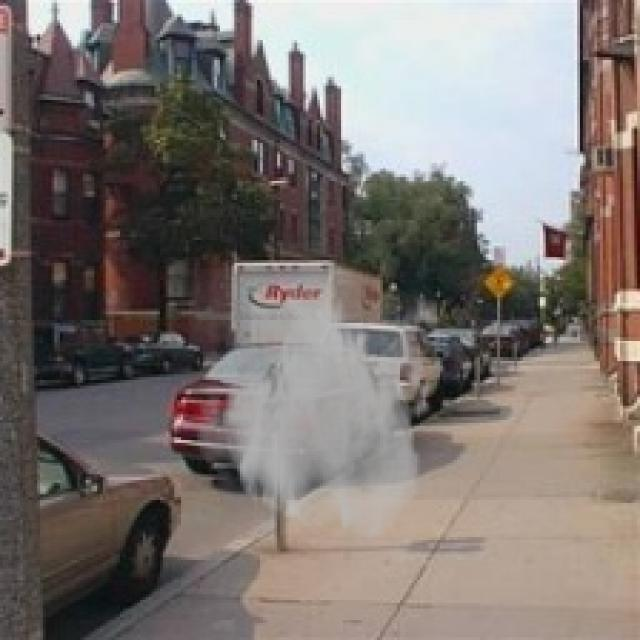smoke: (188, 268, 448, 546)
